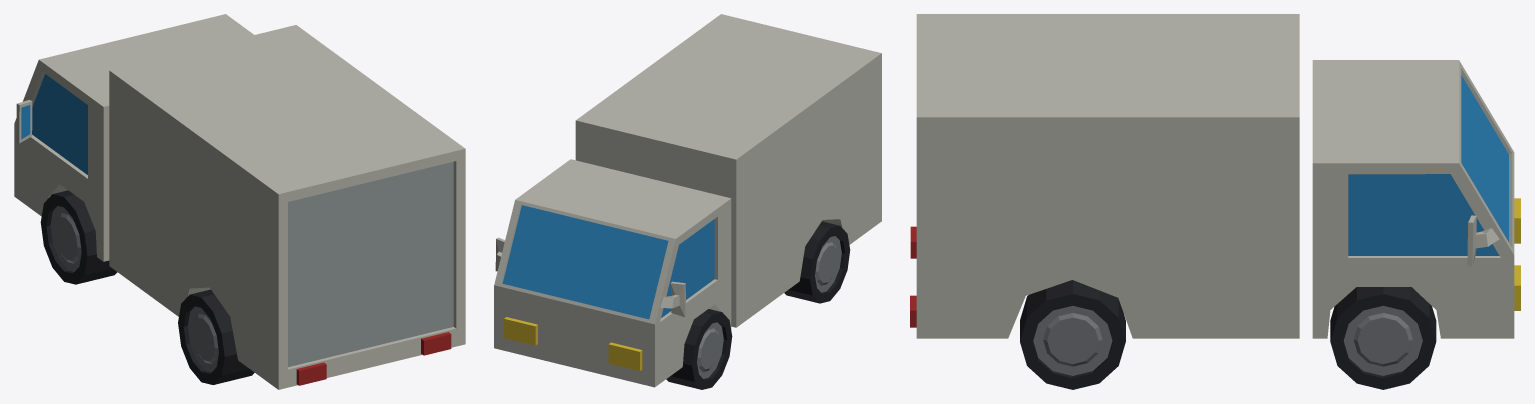
The model's file is Car.fbx.
3 views of the same model, side by side, from view 1: azimuth 30°, elevation 25°; view 2: azimuth 150°, elevation 25°; view 3: azimuth 270°, elevation 25° (orthographic). The views are drawn at different scales.
Visible parts, largest first — view 1: Cube, Cylinder.002, Cylinder.003; view 2: Cube, Cylinder.002, Cylinder.003; view 3: Cube, Cylinder.001, Cylinder.
Boxes of the visible parts, bbox=[...] form: Cube: bbox=[14, 14, 465, 389]; Cylinder.002: bbox=[178, 289, 254, 384]; Cylinder.003: bbox=[40, 190, 117, 284]; Cube: bbox=[494, 14, 881, 387]; Cylinder.002: bbox=[784, 221, 850, 303]; Cylinder.003: bbox=[666, 309, 732, 389]; Cube: bbox=[910, 14, 1520, 338]; Cylinder.001: bbox=[1020, 280, 1125, 389]; Cylinder: bbox=[1330, 287, 1436, 389].
Bounding box in the file's own units: 1131 × 1159 × 2400.
